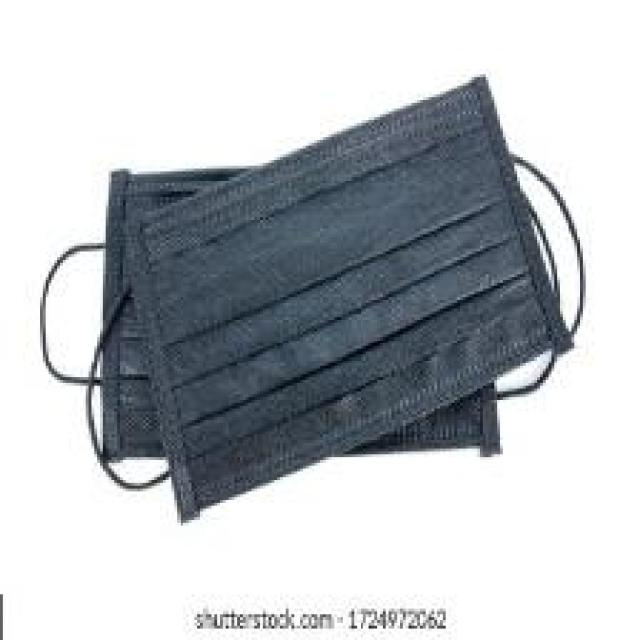Mask: (58, 86, 558, 474)
